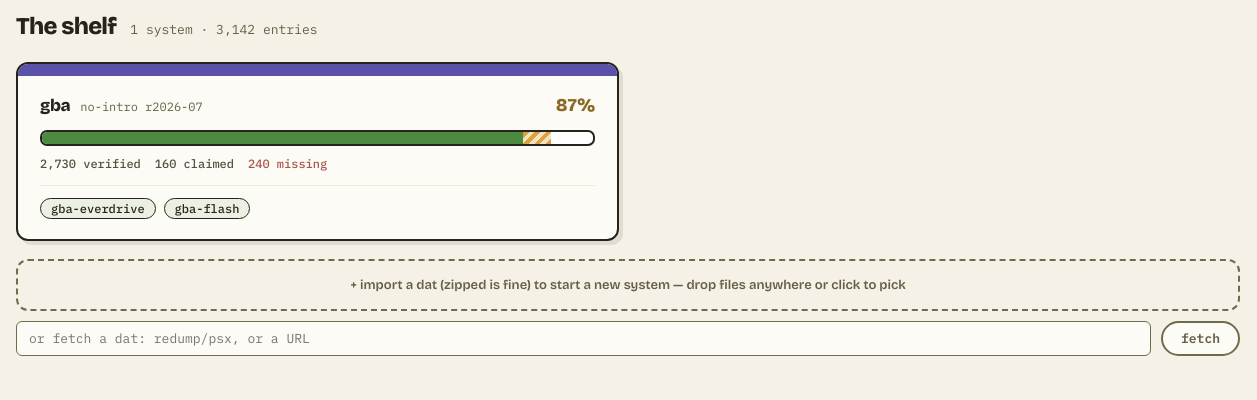
Test case: a failed fetch logs the error against the source
The width and height of the screenshot is (1257, 400).
Expected: the text "gba" is shown, [40,95,70,116]
Type "redump/nope" into the field with placeholder "or fetch a dat: redump/psx, or a URL" at [584, 338], box [16,321,1151,356]
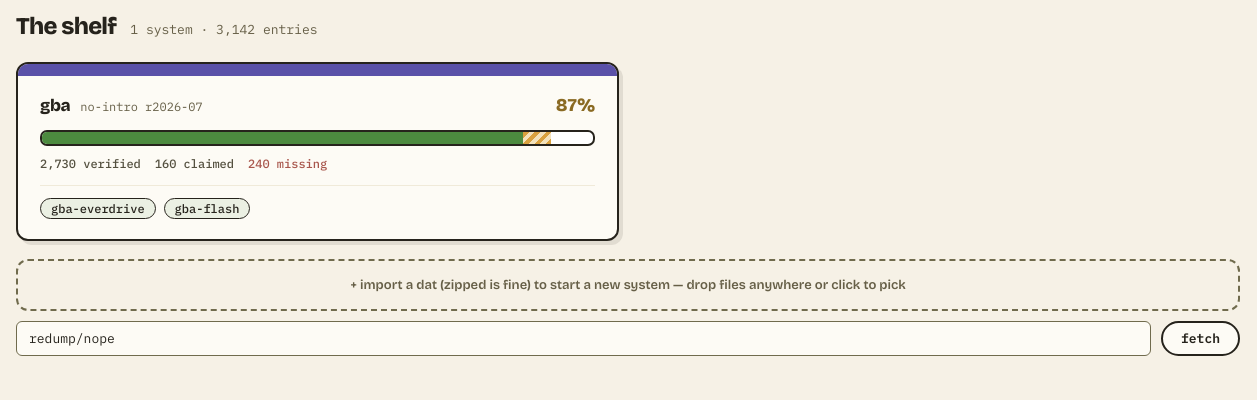
Click the button "fetch" at [1200, 338], box [1161,321,1240,356]
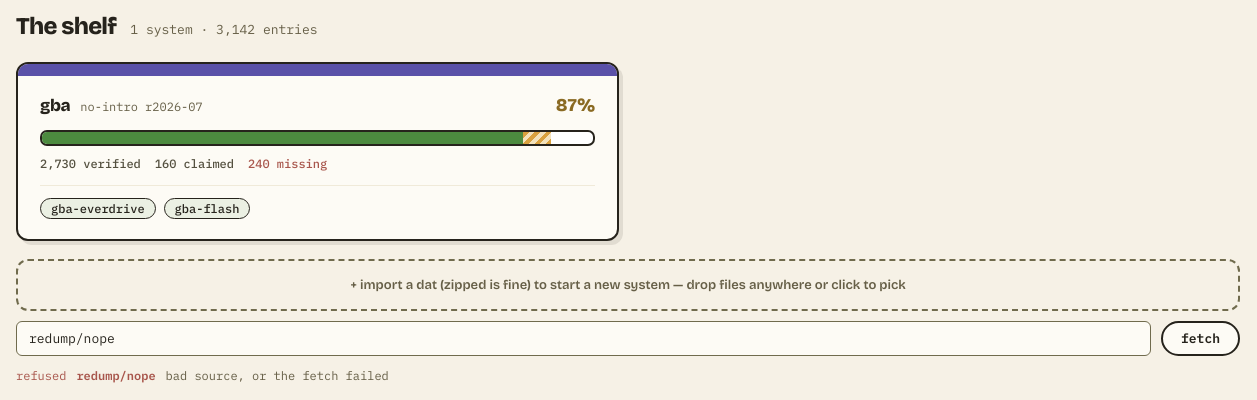
Now the text "redump/nope" is shown, box [76,368,156,383]
Now the text "refused" is shown, box [16,368,66,383]
